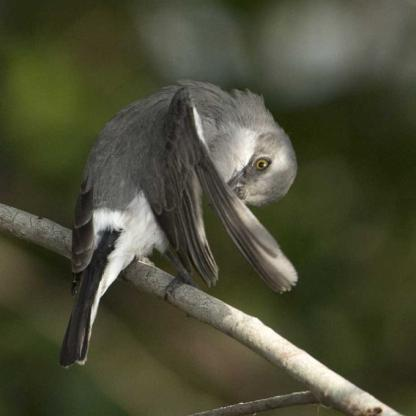Burung: (58, 78, 297, 369)
